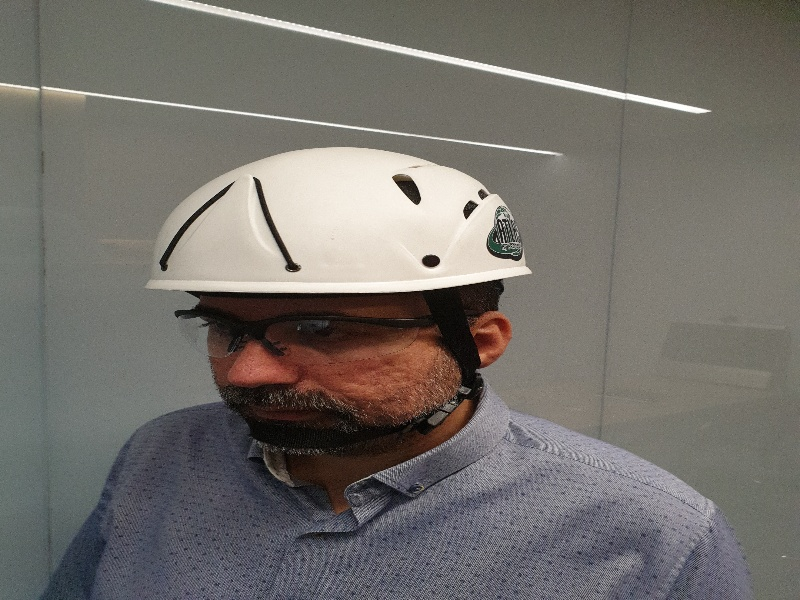Baret: (146, 148, 535, 286)
Gozluk: (171, 306, 483, 365)
